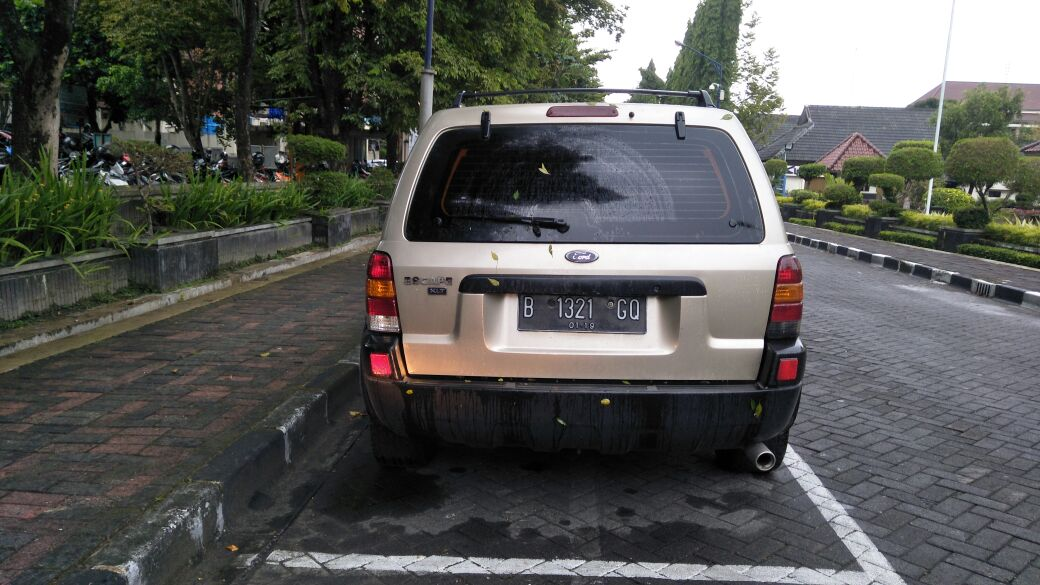plate: (518, 292, 648, 335)
